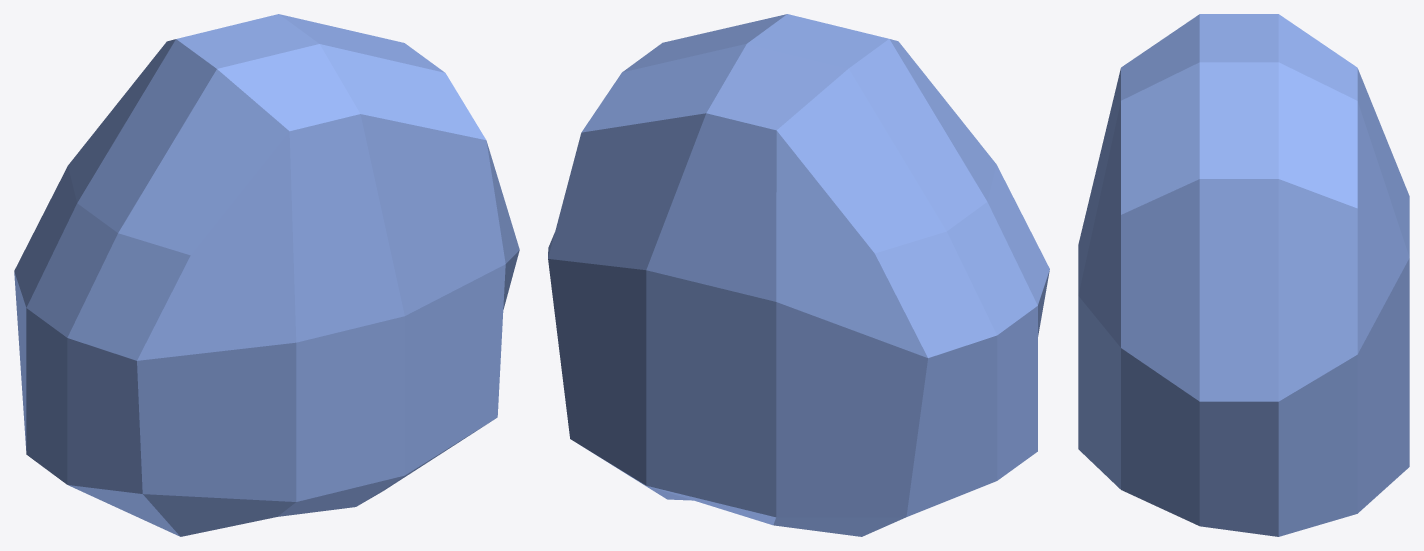
The model's file is Stone_1.fbx.
3 renders of one model, left to right at view 1: azimuth 30°, elevation 25°; view 2: azimuth 150°, elevation 25°; view 3: azimuth 270°, elevation 25°, orthographic. The views are drawn at different scales.
Visible parts, largest first — view 1: Cube.024; view 2: Cube.024; view 3: Cube.024.
Part boxes in pixels (x1,y1,x2,y2): Cube.024: (14,14,519,536); Cube.024: (548,14,1049,536); Cube.024: (1078,14,1409,536).
Size of the model in its own units: 138 by 128 by 90.97.
